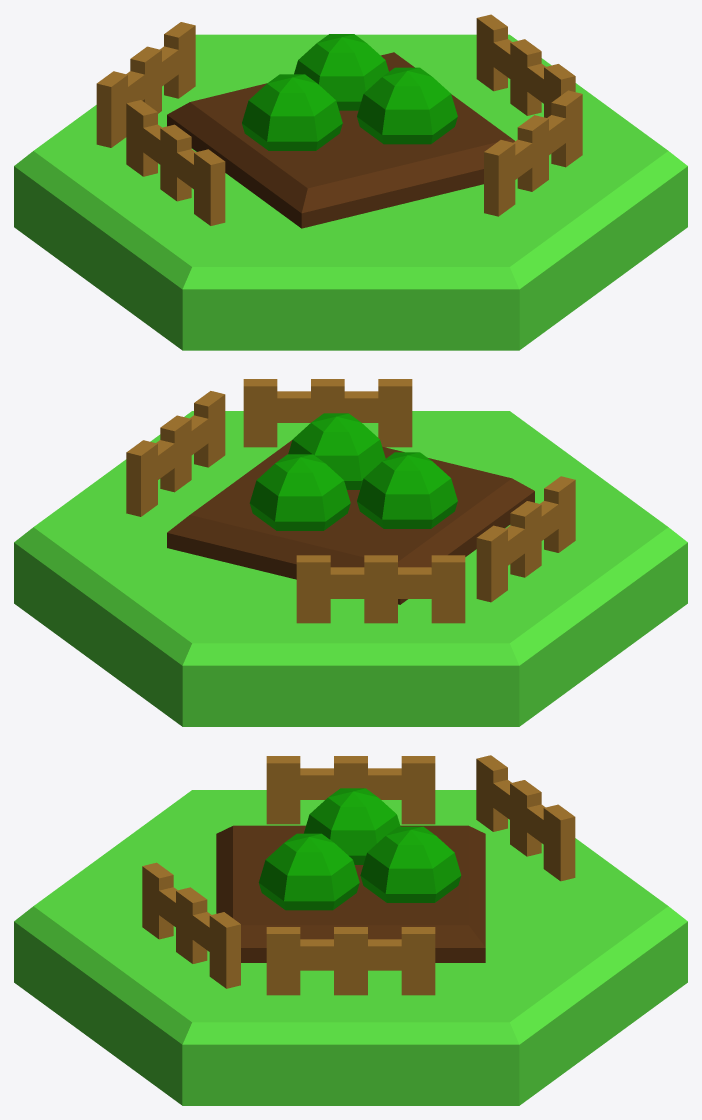
The model's file is tile_food_farm.fbx.
3 renders of one model, top to bottom at view 1: azimuth 30°, elevation 25°; view 2: azimuth 150°, elevation 25°; view 3: azimuth 270°, elevation 25°, orthographic.
Visible parts, largest first — view 1: Pad, Ogorod, Fence.001, Fence.002, Fence.003, Melon, Melon.001, Fence, Melon.002; view 2: Pad, Ogorod, Fence.003, Fence.002, Fence, Fence.001, Melon.002, Melon.001, Melon; view 3: Pad, Ogorod, Fence, Fence.001, Fence.003, Fence.002, Melon, Melon.002, Melon.001.
Boxes of the visible parts, bbox=[...] form: Pad: bbox=[14, 34, 687, 350]; Ogorod: bbox=[167, 52, 514, 228]; Fence.001: bbox=[126, 100, 225, 225]; Fence.002: bbox=[484, 90, 582, 216]; Fence.003: bbox=[96, 22, 195, 147]; Melon: bbox=[357, 67, 457, 144]; Melon.001: bbox=[242, 74, 342, 150]; Fence: bbox=[476, 14, 575, 117]; Melon.002: bbox=[294, 34, 388, 110]; Pad: bbox=[14, 411, 687, 726]; Ogorod: bbox=[167, 440, 534, 604]; Fence.003: bbox=[296, 555, 465, 623]; Fence.002: bbox=[243, 379, 412, 447]; Fence: bbox=[126, 391, 225, 516]; Fence.001: bbox=[476, 476, 575, 602]; Melon.002: bbox=[249, 454, 350, 530]; Melon.001: bbox=[357, 452, 457, 528]; Melon: bbox=[288, 413, 385, 489]; Pad: bbox=[14, 790, 687, 1105]; Ogorod: bbox=[216, 825, 485, 962]; Fence: bbox=[266, 927, 435, 995]; Fence.001: bbox=[266, 756, 435, 824]; Fence.003: bbox=[476, 755, 575, 881]; Fence.002: bbox=[142, 862, 240, 988]; Melon: bbox=[258, 833, 359, 910]; Melon.002: bbox=[360, 826, 461, 902]; Melon.001: bbox=[304, 788, 400, 864].
Size of the model in its own units: 346 by 107 by 400.
